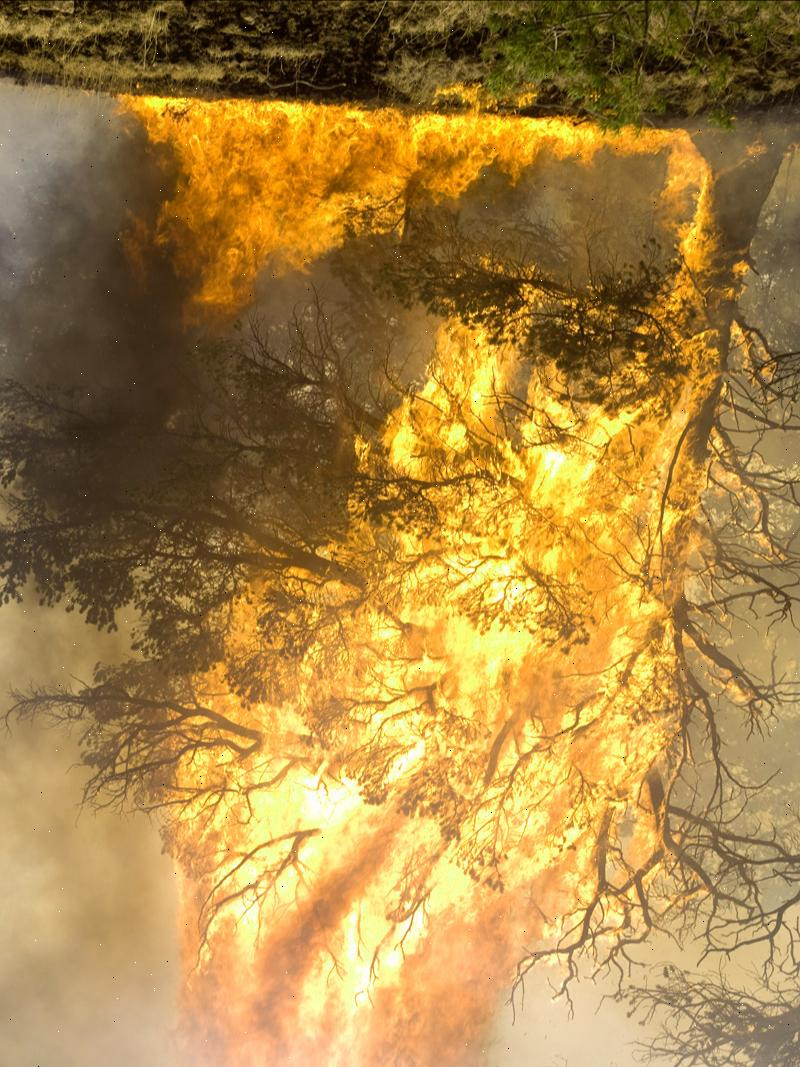fire: (117, 58, 759, 1066)
